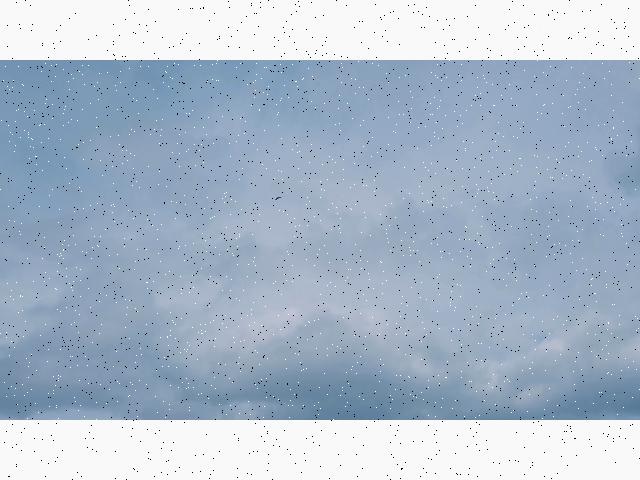Anti-Drone: (272, 193, 284, 201)
